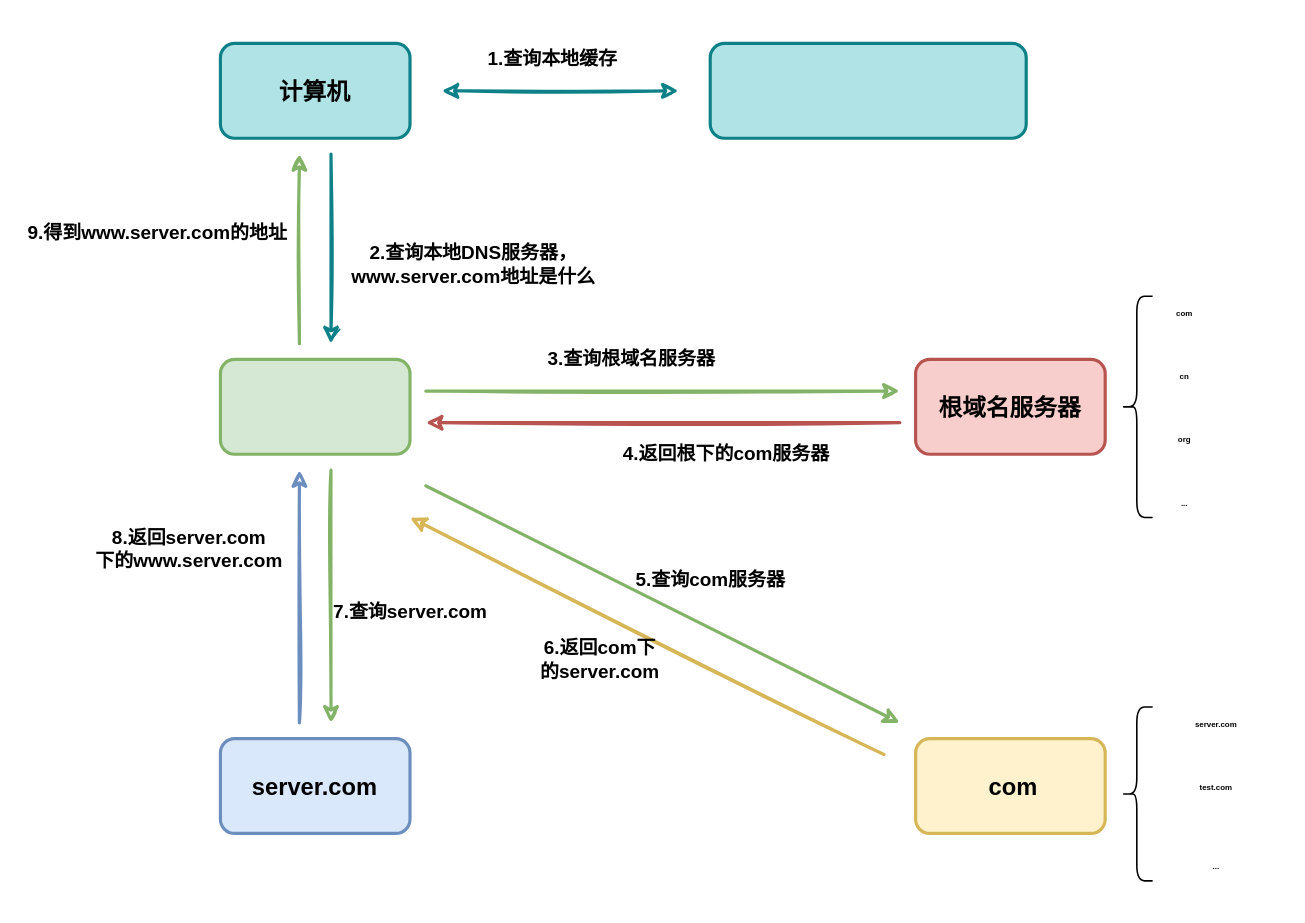
Image size: 1305x923. Some labels were removed from this diagram. Here are the shapes that lost their labels. From the top down, the centre of each, then its label:
(867,90): 系统DNS缓存/配置
(314,406): 本地DNS服务器
